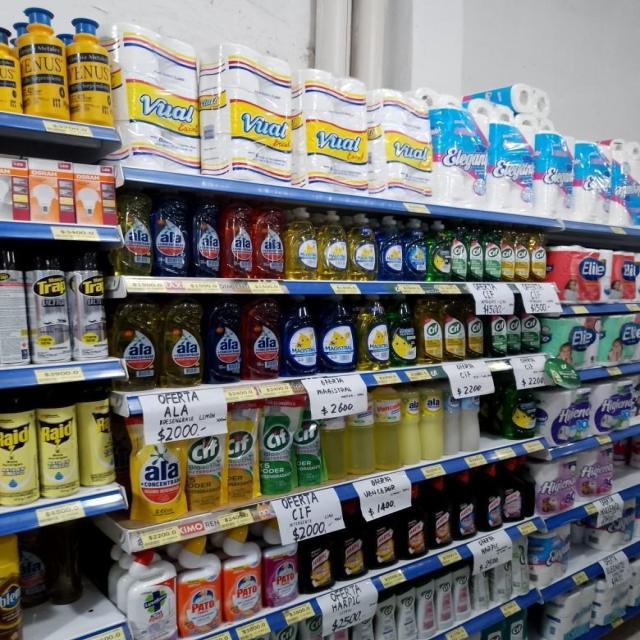ala_conc_amarillo: (114, 294, 160, 392), (162, 294, 204, 388), (119, 187, 152, 276)
ala_conc_azul: (153, 192, 190, 278), (206, 296, 242, 384), (191, 195, 221, 278)
ala_conc_rojo: (243, 296, 280, 380), (222, 199, 254, 279), (254, 203, 284, 280)
ala_crem_amarillo: (376, 384, 400, 470), (421, 380, 443, 460), (400, 383, 421, 466)
ala_crem_blanco: (462, 381, 481, 453), (444, 381, 460, 455)
ala_sachet_amarillo: (129, 418, 185, 522)
cif_conc_bot_amarilla: (418, 296, 442, 364), (443, 296, 465, 361), (466, 298, 484, 359), (531, 234, 546, 283), (516, 232, 530, 282), (502, 229, 514, 282)
cif_conc_botella_verde: (486, 301, 506, 358), (450, 224, 467, 282), (467, 224, 483, 282), (484, 228, 501, 282), (522, 304, 540, 354), (506, 301, 522, 356)
cif_conc_sachet_amarillo: (187, 418, 224, 511), (226, 402, 258, 503)
cif_conc_sachet_verde: (260, 397, 294, 495)
magistral_con_amarillo: (358, 296, 390, 370), (286, 207, 318, 280), (318, 210, 346, 281), (348, 213, 376, 281)
magistral_con_azul: (282, 294, 317, 376), (319, 294, 355, 373), (377, 215, 403, 282), (404, 217, 427, 282)
magistral_con_verde: (428, 220, 450, 282)
